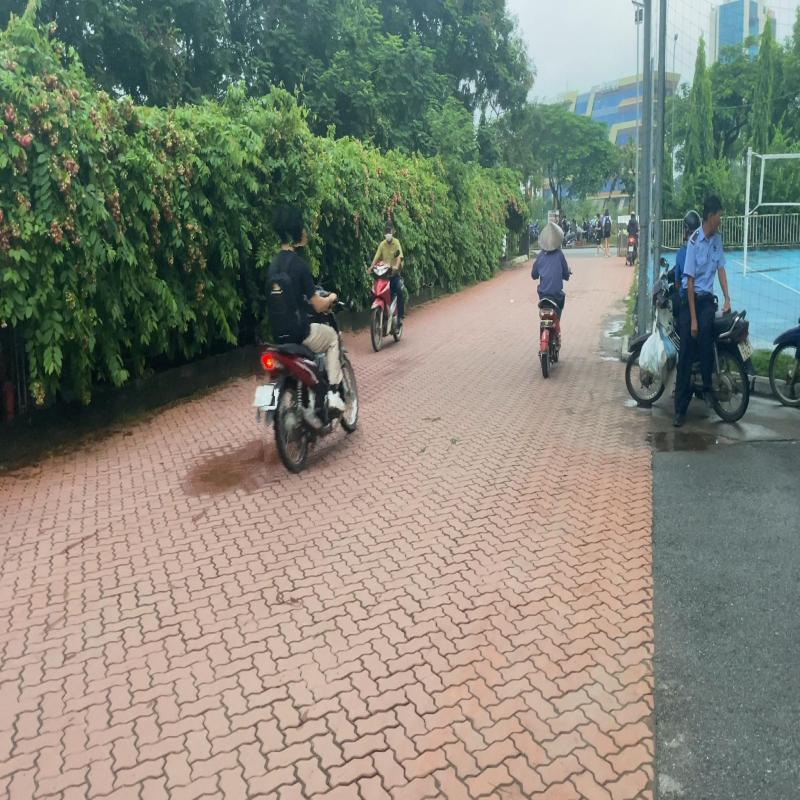licenseplate: (252, 384, 274, 408)
motorcyclist: (245, 200, 360, 476)
nohelmet: (284, 206, 308, 247)
